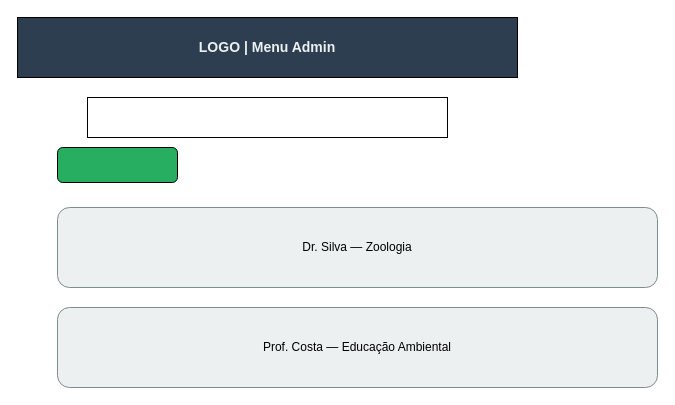
Some shapes in this 675 by 405 pixel diagram are drawn without their labels. Each missing label, with the box of its shape:
+ Novo: (56, 146, 178, 182)
ESPECIALISTAS — Lista (Mobile): (86, 96, 448, 138)
